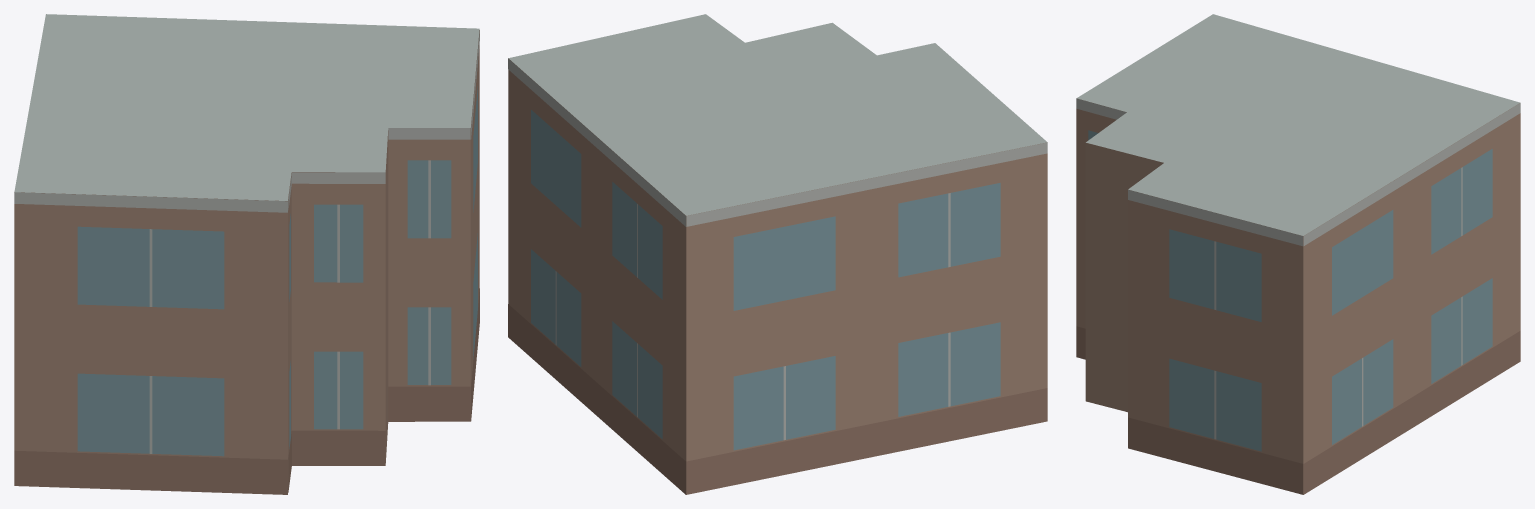
File: survey-upis-32958299.glb
3 views of the same model, side by side, from view 1: azimuth 30°, elevation 25°; view 2: azimuth 150°, elevation 25°; view 3: azimuth 270°, elevation 25° (orthographic). The views are drawn at different scales.
Visible parts, largest first — view 1: survey-upis-32958299.tmp; view 2: survey-upis-32958299.tmp; view 3: survey-upis-32958299.tmp.
Part boxes in pixels (x1,y1,x2,y2): survey-upis-32958299.tmp: (14,14,479,494); survey-upis-32958299.tmp: (508,14,1047,494); survey-upis-32958299.tmp: (1076,14,1520,494).
Size of the model in its own units: 11.24 by 6.1 by 9.5.
